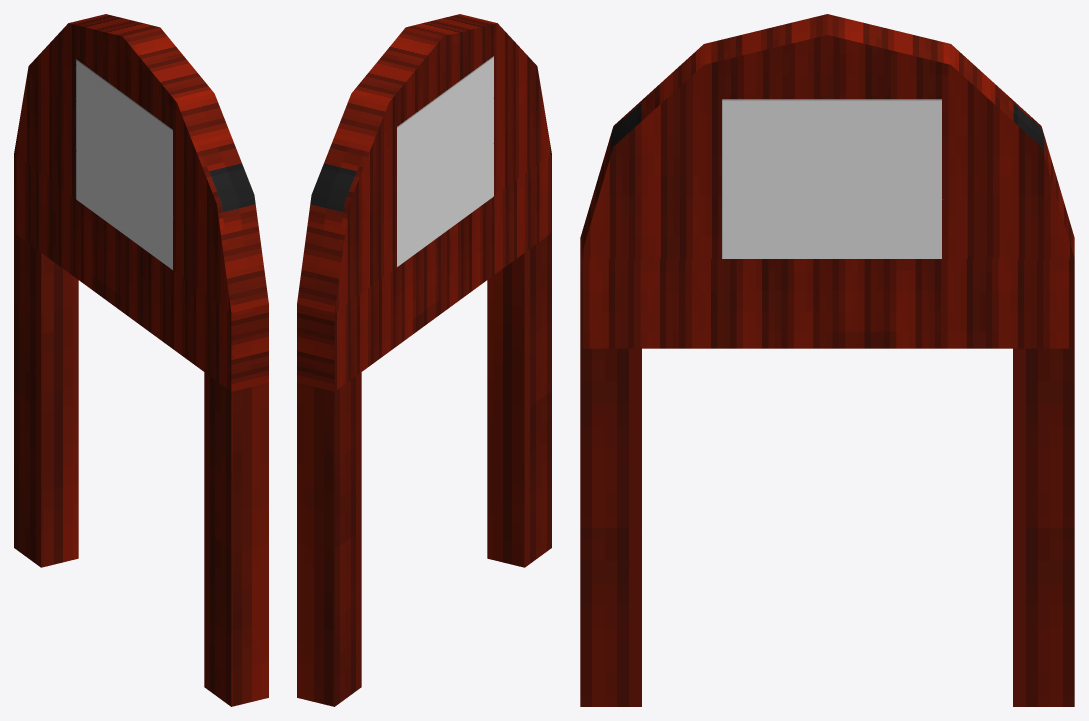
File: doorFrame.obj
The picture shows the model from 3 angles, left to right: view 1: azimuth 30°, elevation 25°; view 2: azimuth 150°, elevation 25°; view 3: azimuth 270°, elevation 25°; orthographic projection. The views are drawn at different scales.
Parts seen in each view (by area): view 1: Object001, Arch_funny; view 2: Object001, Arch_funny; view 3: Object001, Arch_funny.
Boxes of the visible parts, x1=… form: Object001: x1=14, y1=14, x2=268, y2=391; Arch_funny: x1=14, y1=233, x2=268, y2=706; Object001: x1=297, y1=14, x2=551, y2=391; Arch_funny: x1=297, y1=233, x2=551, y2=706; Object001: x1=580, y1=14, x2=1074, y2=348; Arch_funny: x1=580, y1=348, x2=1074, y2=706.
Bounding box in the file's own units: 1 × 15 × 10.
2 materials, 2 textured.
